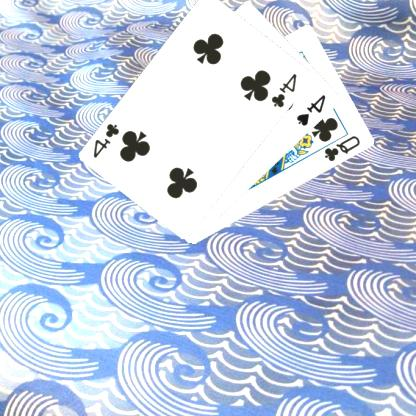4C: (92, 120, 123, 160), (270, 70, 301, 109)
4S: (296, 92, 329, 128)
QC: (323, 133, 364, 163)
